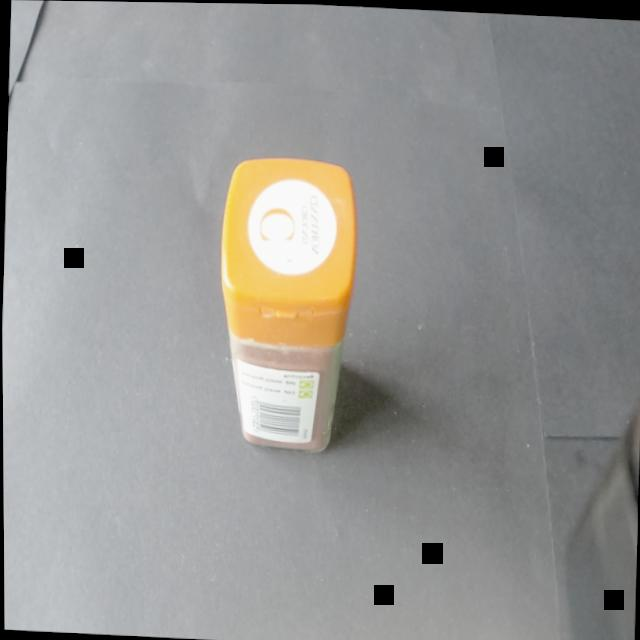Cinnamon: (199, 126, 386, 501)
